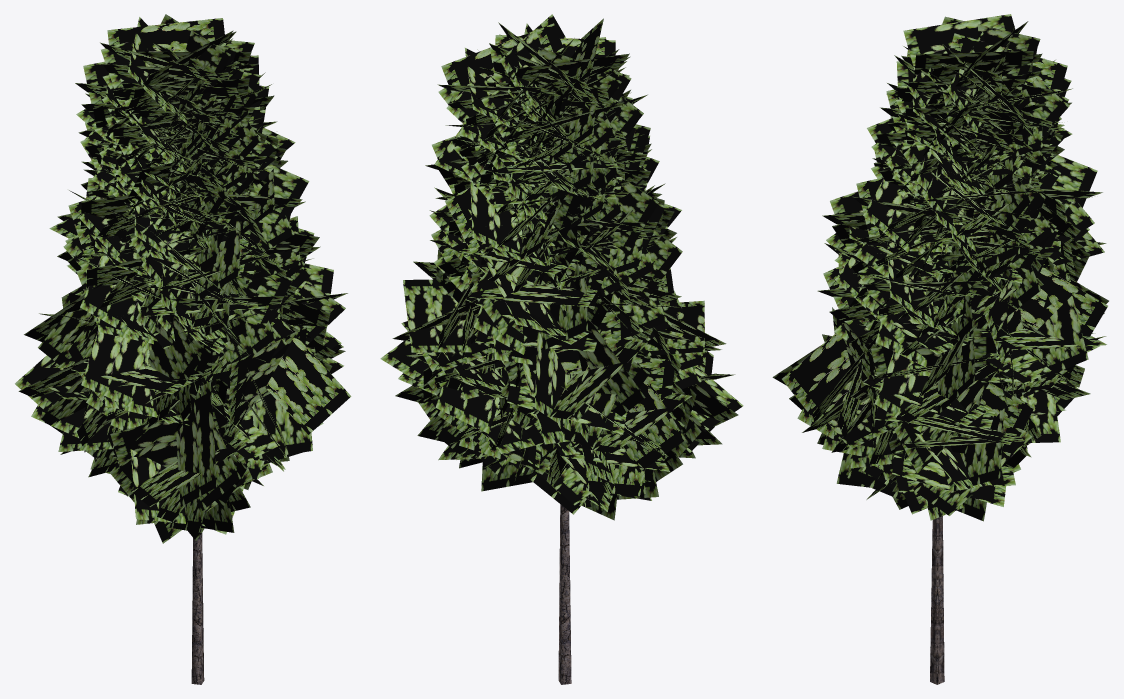
The model's file is tree2.fbx.
3 renders of one model, left to right at view 1: azimuth 30°, elevation 25°; view 2: azimuth 150°, elevation 25°; view 3: azimuth 270°, elevation 25°, orthographic. The views are drawn at different scales.
Parts seen in each view (by area): view 1: leaves, tree; view 2: leaves, tree; view 3: leaves, tree.
Part boxes in pixels (x1,y1,x2,y2): leaves: (15, 14, 351, 543); tree: (149, 363, 272, 684); leaves: (380, 14, 743, 520); tree: (558, 371, 574, 684); leaves: (772, 14, 1108, 521); tree: (930, 279, 944, 684).
Bounding box in the file's own units: 589 × 1212 × 572.
2 materials, 2 textured.
